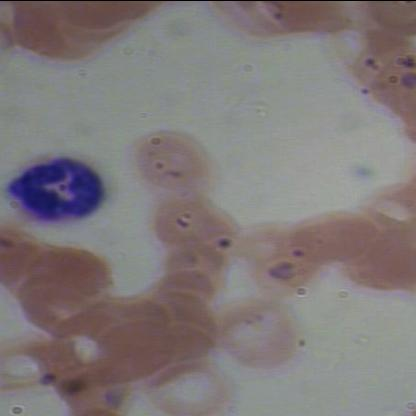RBC: (142, 185, 233, 261), (127, 124, 217, 200), (209, 294, 299, 370), (234, 221, 324, 297), (282, 200, 372, 276), (26, 236, 116, 312), (84, 314, 174, 390), (343, 225, 415, 301), (140, 358, 233, 416)
WBC: (1, 141, 106, 233)
